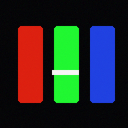3 line_h: (52, 70, 78, 74)
